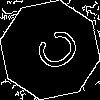C: (25, 25, 83, 80)
